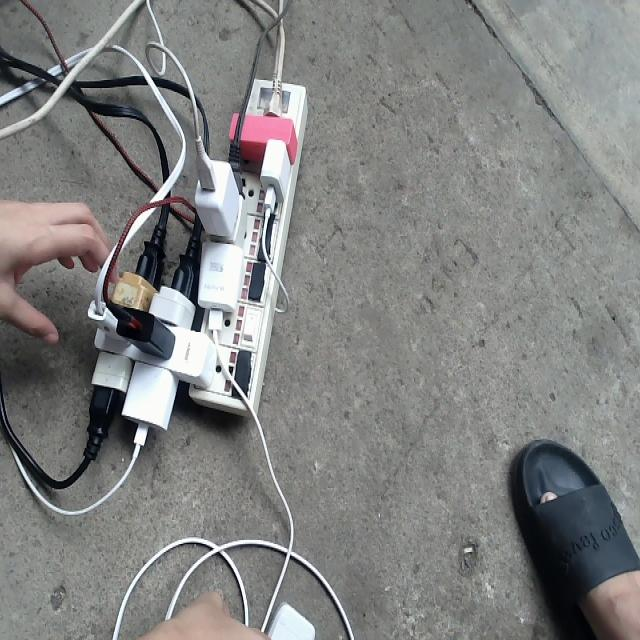-: (82, 45, 313, 488)
